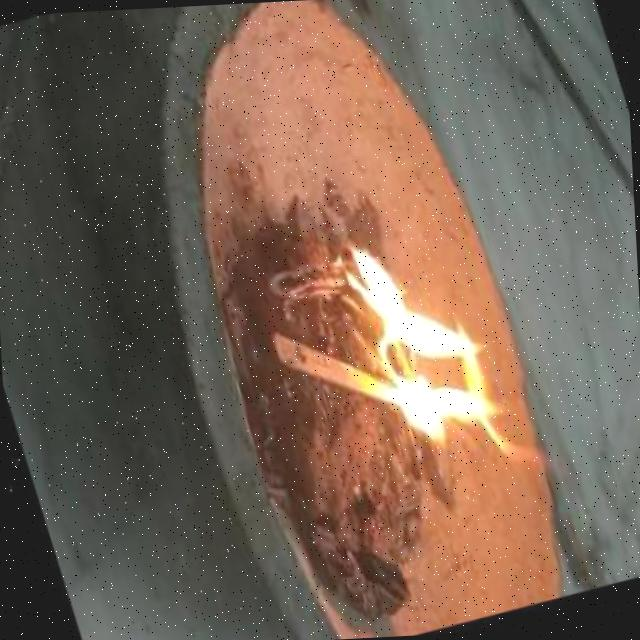fire: (321, 224, 539, 512)
